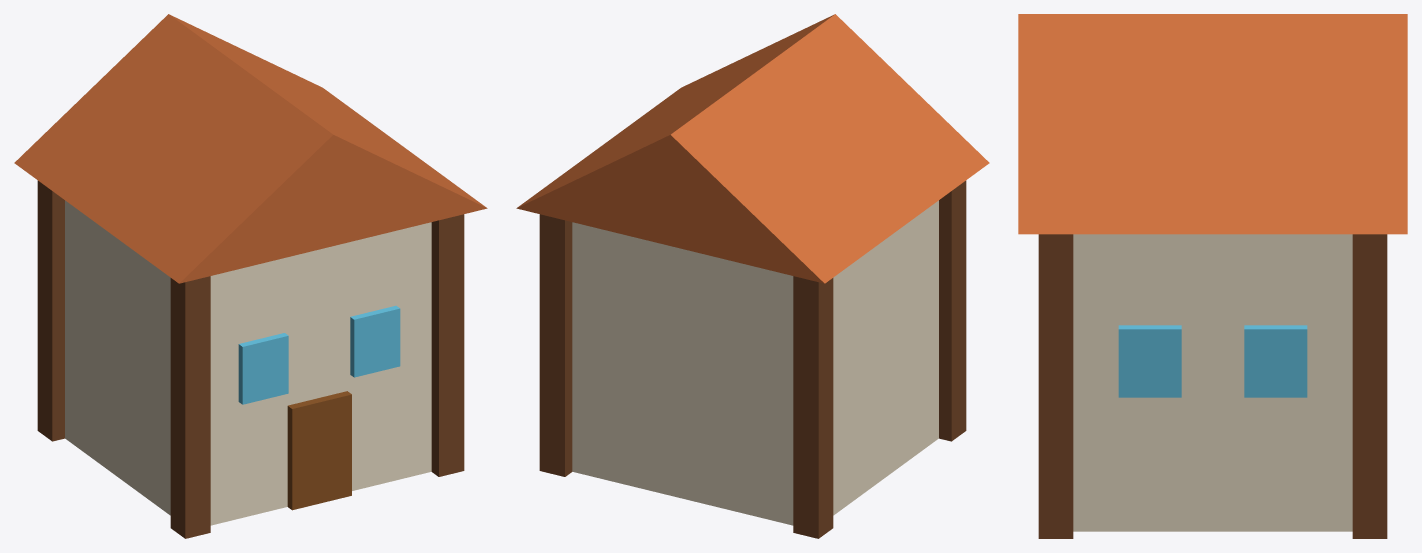
Rendered from house_small.glb.
The picture shows the model from 3 angles, left to right: view 1: azimuth 30°, elevation 25°; view 2: azimuth 150°, elevation 25°; view 3: azimuth 270°, elevation 25°; orthographic projection. The views are drawn at different scales.
Parts seen in each view (by area): view 1: beams; view 2: beams; view 3: beams.
Part boxes in pixels (x1,y1,x2,y2): beams: [14, 14, 487, 538]; beams: [516, 14, 989, 538]; beams: [1018, 14, 1407, 538].
Size of the model in its own units: 1.34 by 1.56 by 1.24.
